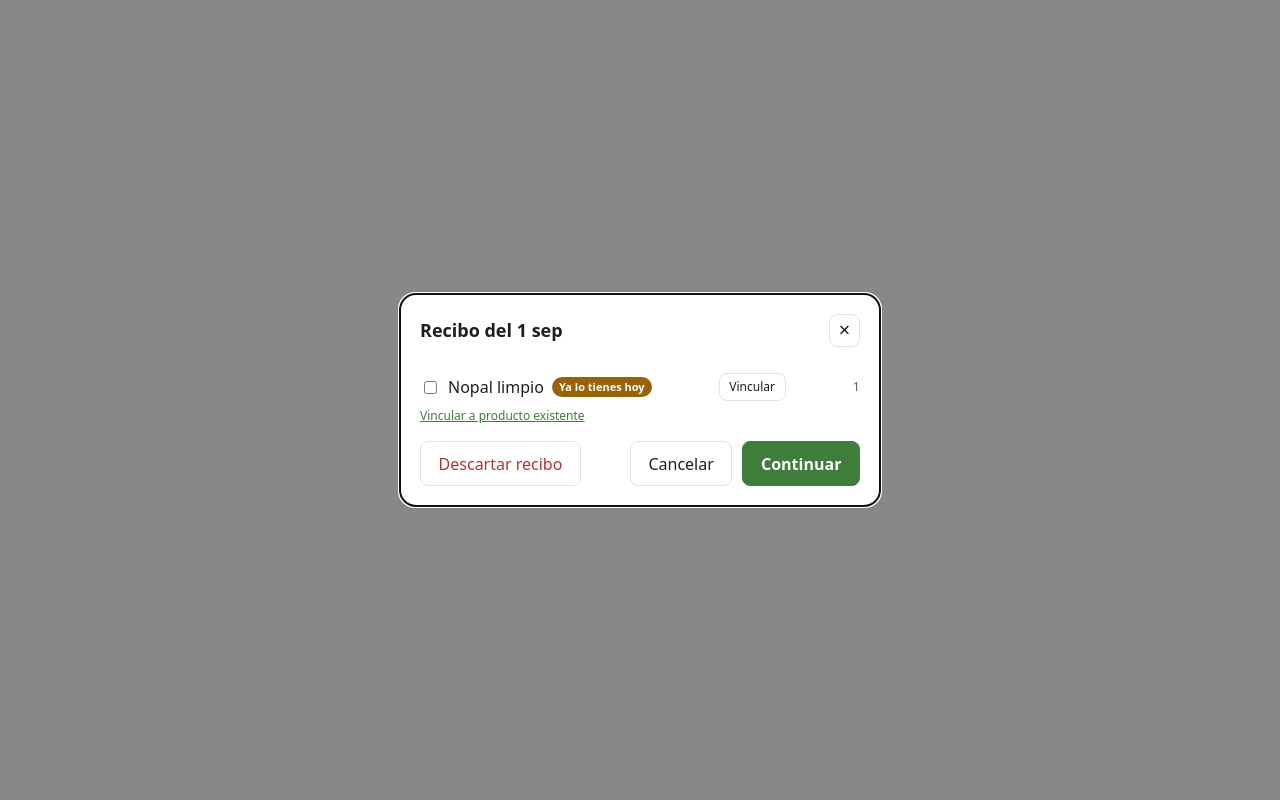
Test: ReceiptTripDialog automatic link to existing › shows the error and leaves the item in place when linking fails
Click the button "Vincular" at (752, 387), box [719,373,786,401]
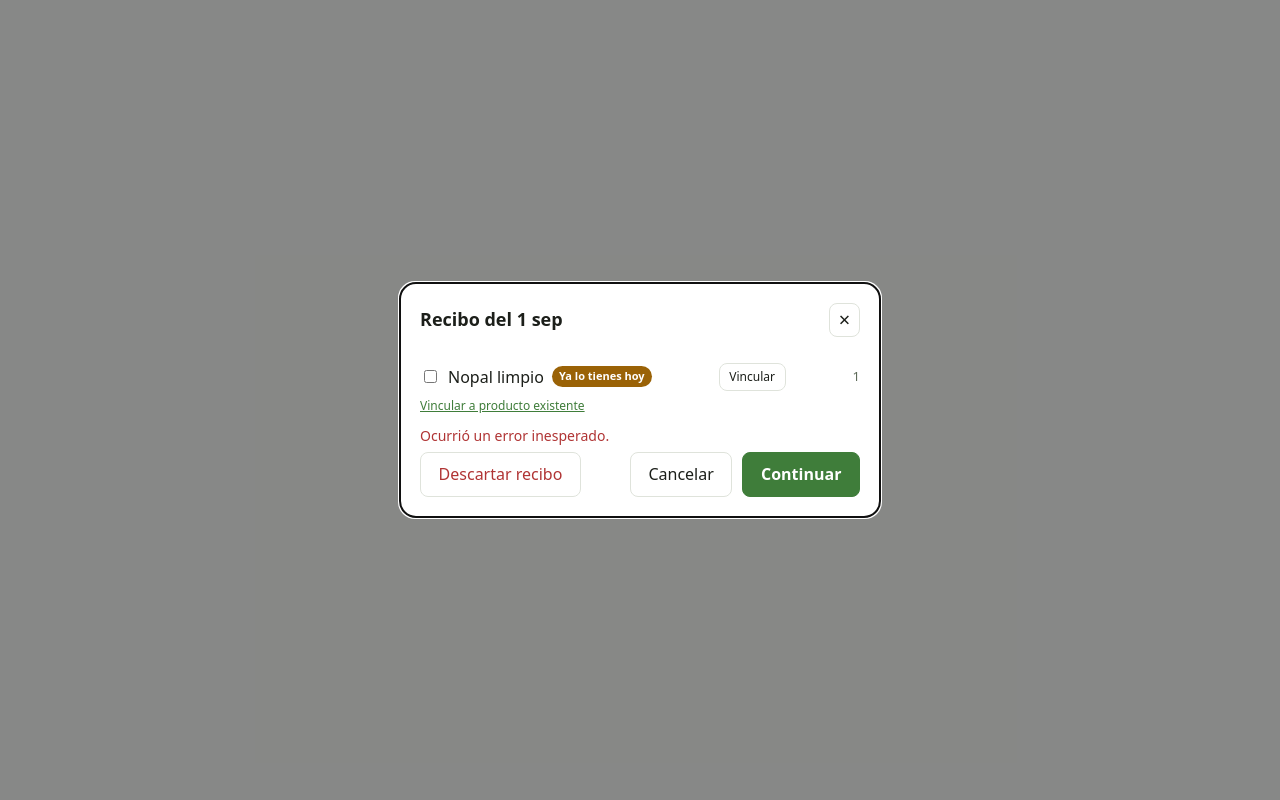
Expected: the text "Nopal limpio" is shown, [448,364,544,388]
Expected: the message reads "Ocurrió un error inesperado.", [420,426,609,444]
